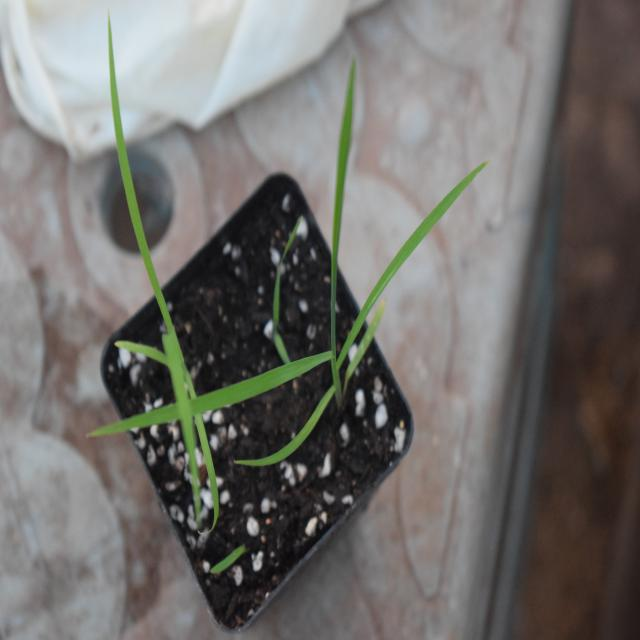barnyard_grass: (129, 71, 523, 447)
